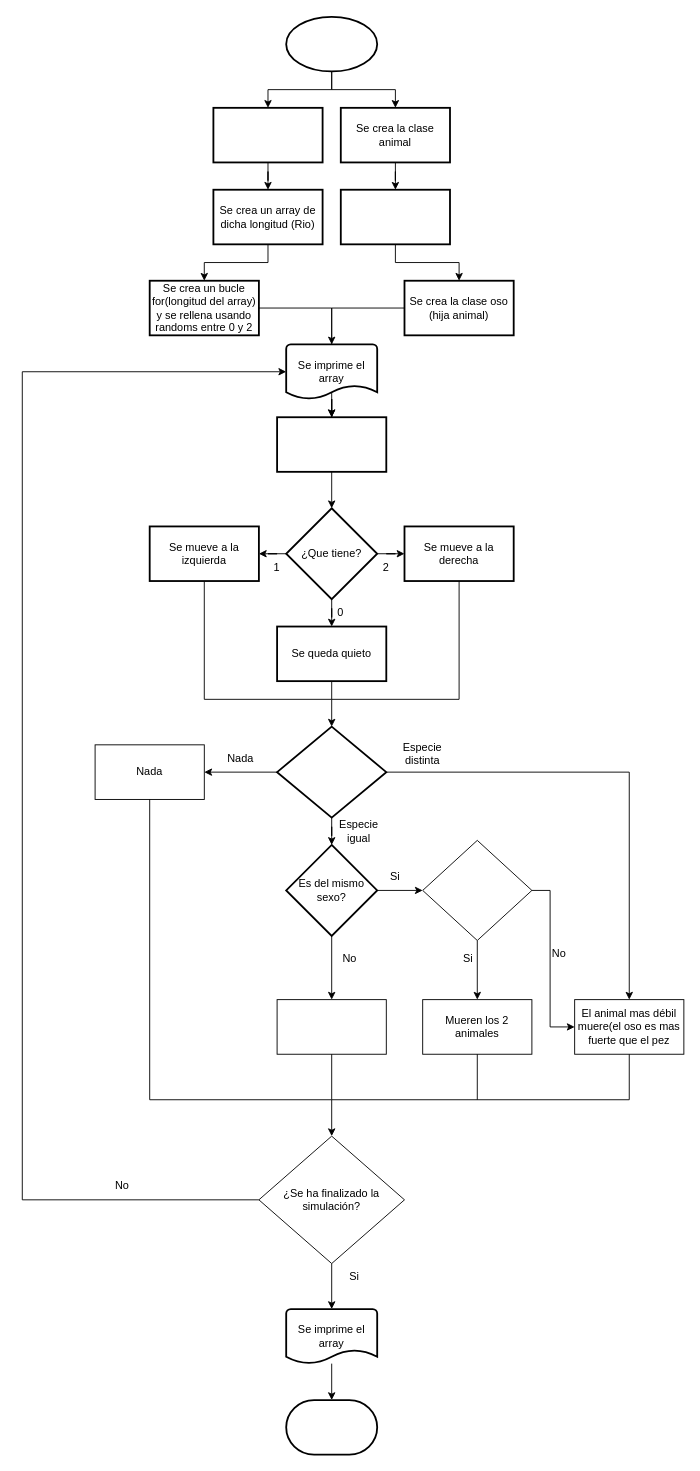
The diagram is 700 pixels wide and 1471 high, and some of its shapes have lost their labels. Here are the shapes that lost their labels. From the top down, the box of each, then its label:
(285, 15, 378, 72): INICIO
(212, 106, 323, 163): Se coge un random entre 20 y 40
(339, 188, 450, 245): Se crea la clase pez (hija animal)
(276, 416, 387, 472): Se generan números random de 0 a 2 y se le asigna un numero a cada animal
(276, 725, 387, 818): ¿Que hay en la nueva casilla?
(422, 839, 532, 940): Tienen la misma fuerza
(276, 999, 386, 1054): Se genera uno de esa misma especie en un lugar vacio al azar
(285, 1399, 378, 1455): FIN
